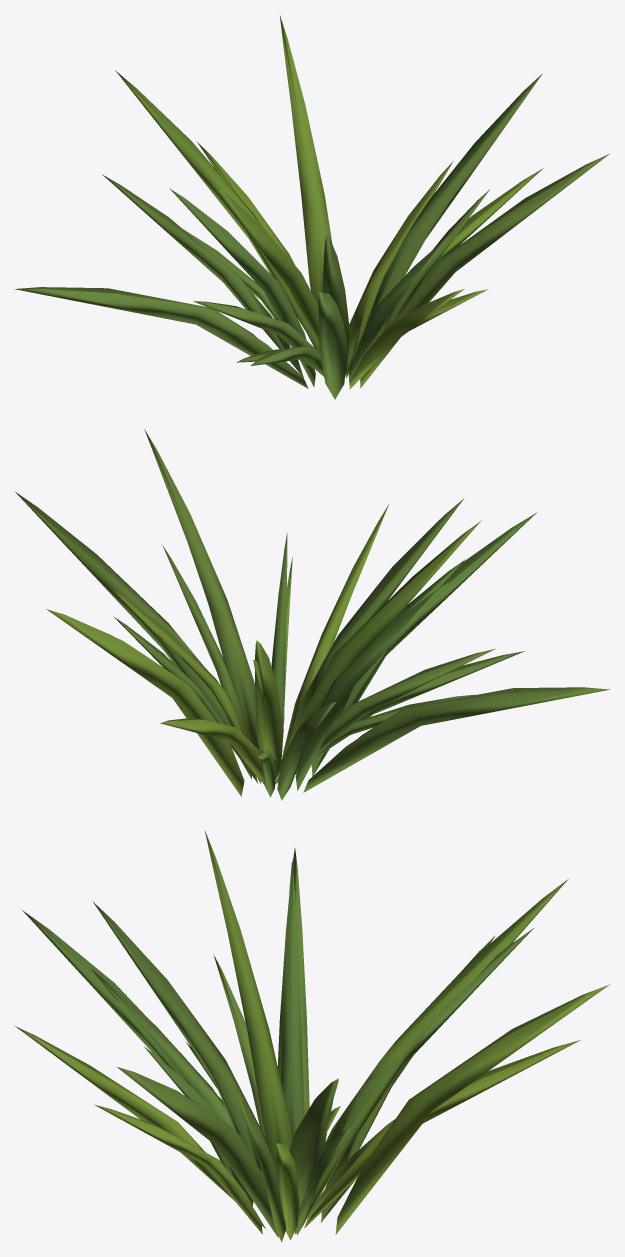
File: tuft_grass.glb
3 renders of one model, top to bottom at view 1: azimuth 30°, elevation 25°; view 2: azimuth 150°, elevation 25°; view 3: azimuth 270°, elevation 25°, orthographic. The views are drawn at different scales.
Parts seen in each view (by area): view 1: Sammel Pflanze; view 2: Sammel Pflanze; view 3: Sammel Pflanze.
Boxes of the visible parts, bbox=[...] form: Sammel Pflanze: bbox=[14, 14, 609, 399]; Sammel Pflanze: bbox=[15, 429, 609, 800]; Sammel Pflanze: bbox=[15, 830, 610, 1242].
Size of the model in its own units: 0.4456 by 0.2053 by 0.3606.
